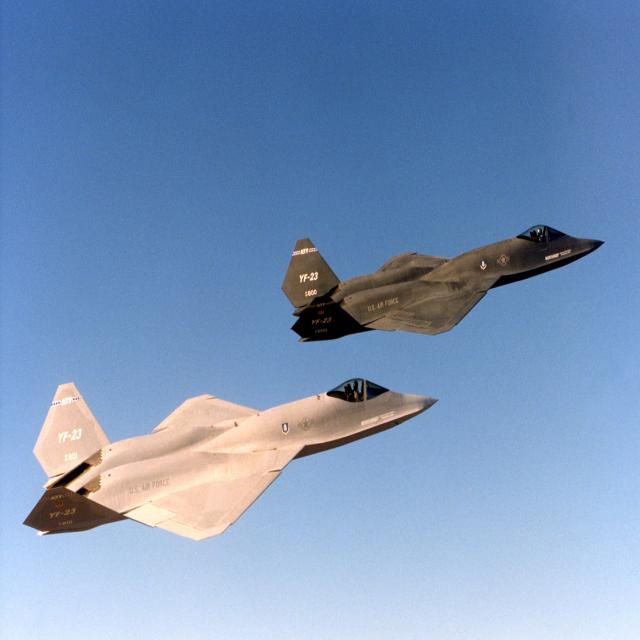MIL_Plane: (22, 378, 440, 542), (281, 225, 605, 342)
